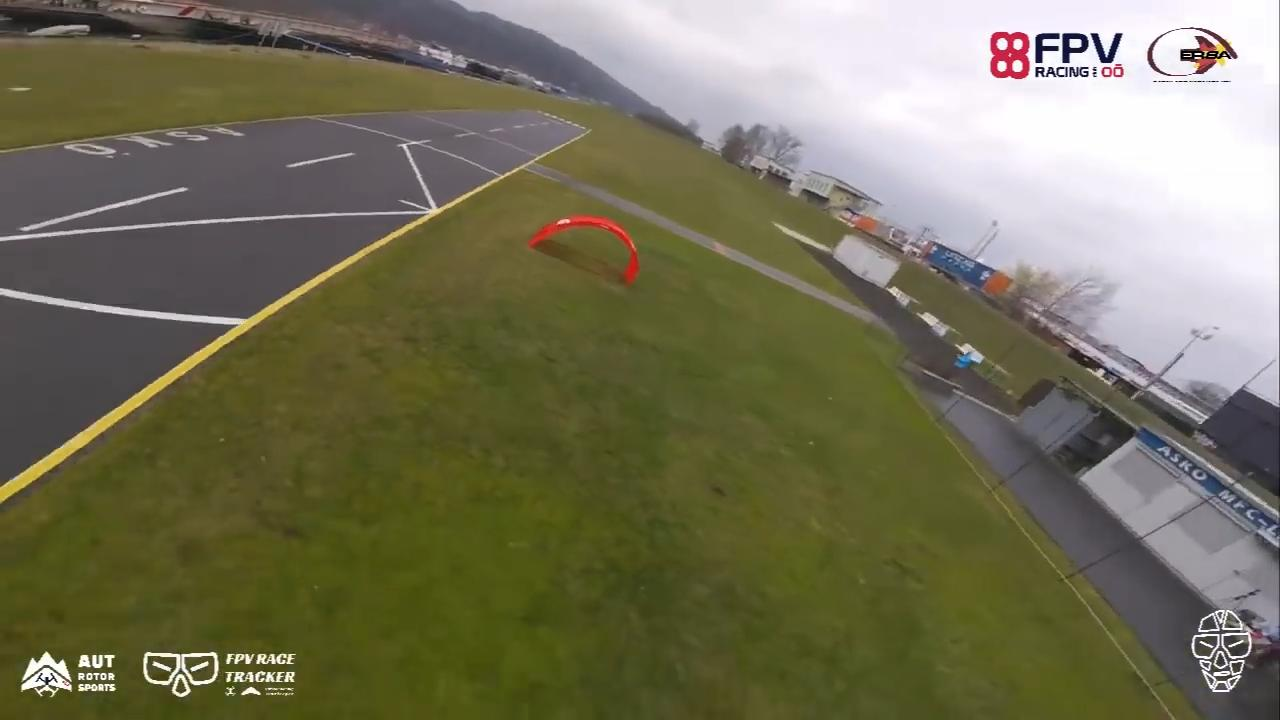gate: (526, 212, 641, 291)
